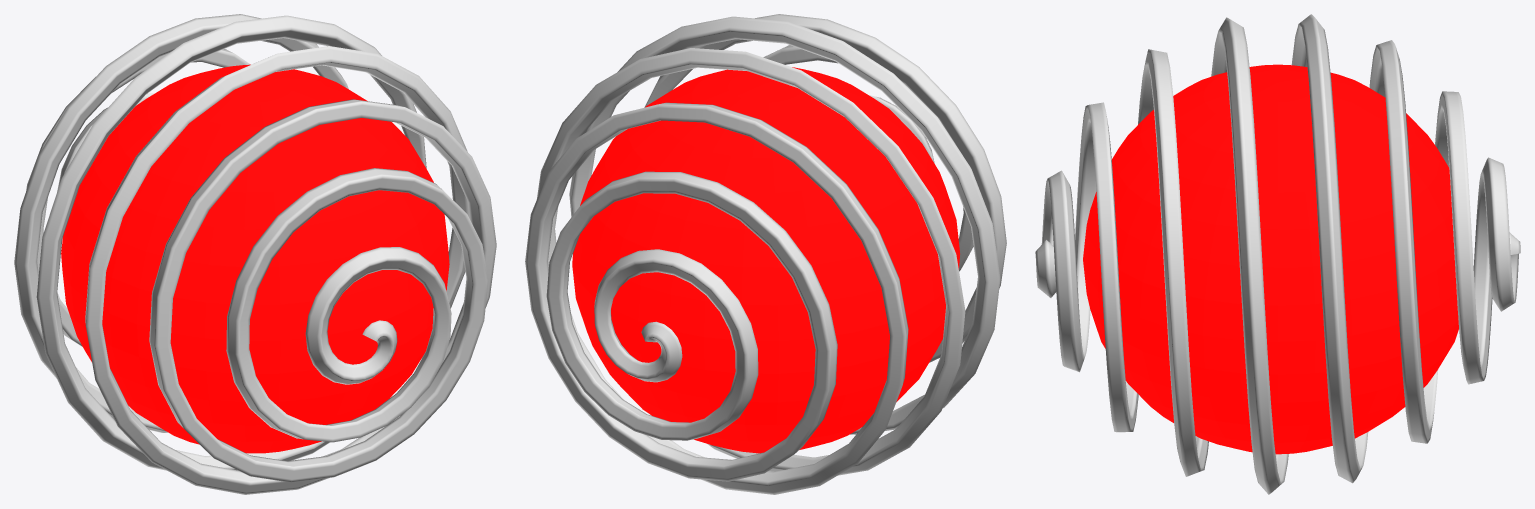
File: enemy.glb
3 renders of one model, left to right at view 1: azimuth 30°, elevation 25°; view 2: azimuth 150°, elevation 25°; view 3: azimuth 270°, elevation 25°, orthographic.
Parts seen in each view (by area): view 1: Spiral, Spiral.001; view 2: Spiral, Spiral.001; view 3: Spiral.001, Spiral.
Part boxes in pixels (left/top/right/bottom): Spiral: left=14, top=14, right=496, bottom=494; Spiral.001: left=61, top=64, right=449, bottom=453; Spiral: left=525, top=14, right=1006, bottom=494; Spiral.001: left=572, top=67, right=959, bottom=453; Spiral.001: left=1083, top=64, right=1458, bottom=454; Spiral: left=1035, top=14, right=1520, bottom=494.
Size of the model in its own units: 0.7607 by 0.7583 by 0.7636.
